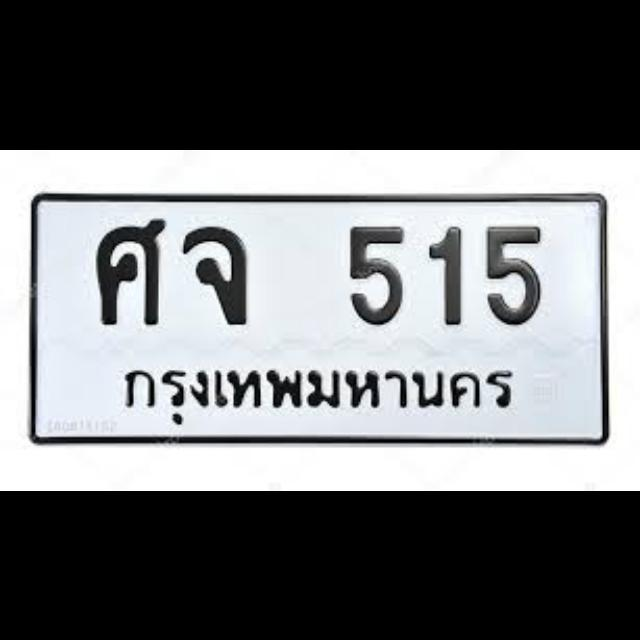licenseplate: (30, 190, 610, 446)
